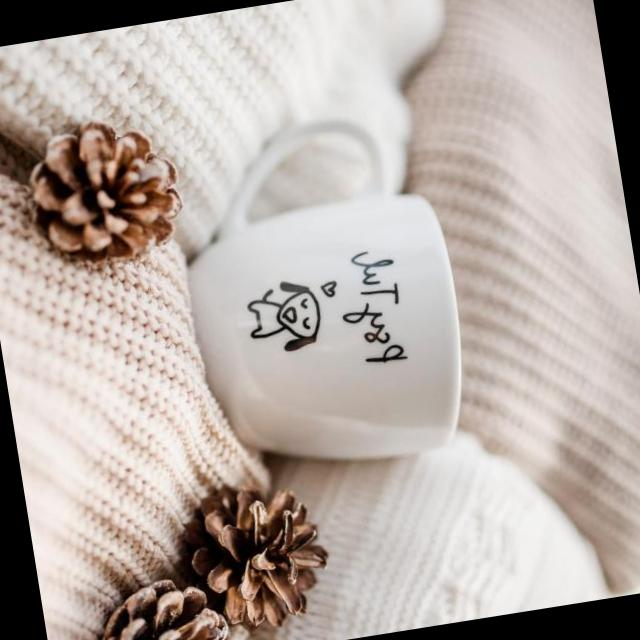Coffee Mug: (170, 109, 480, 489)
